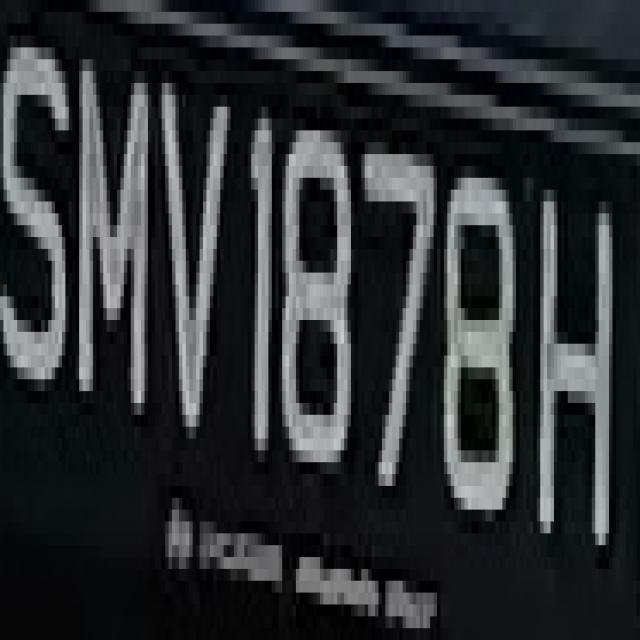1: (241, 71, 272, 486)
7: (348, 83, 433, 510)
8: (275, 107, 358, 545), (430, 154, 516, 533)
H: (534, 130, 620, 581)
M: (72, 12, 162, 438)
S: (0, 24, 76, 438)
V: (151, 59, 227, 474)
